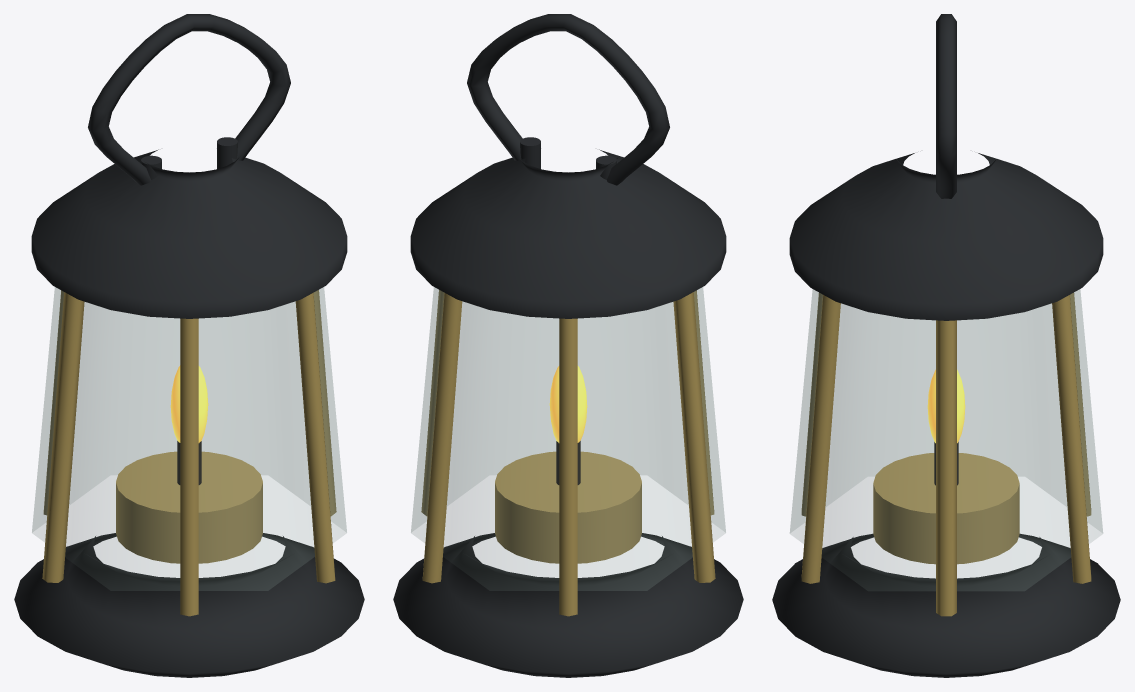
Rendered from lantern.glb.
3 views of the same model, side by side, from view 1: azimuth 30°, elevation 25°; view 2: azimuth 150°, elevation 25°; view 3: azimuth 270°, elevation 25° (orthographic).
Parts seen in each view (by area): view 1: lantern; view 2: lantern; view 3: lantern.
Part boxes in pixels (x1,y1,x2,y2): lantern: (14, 14, 364, 677); lantern: (393, 14, 743, 677); lantern: (772, 14, 1120, 677).
Bounding box in the file's own units: 0.22 × 0.42 × 0.22.
